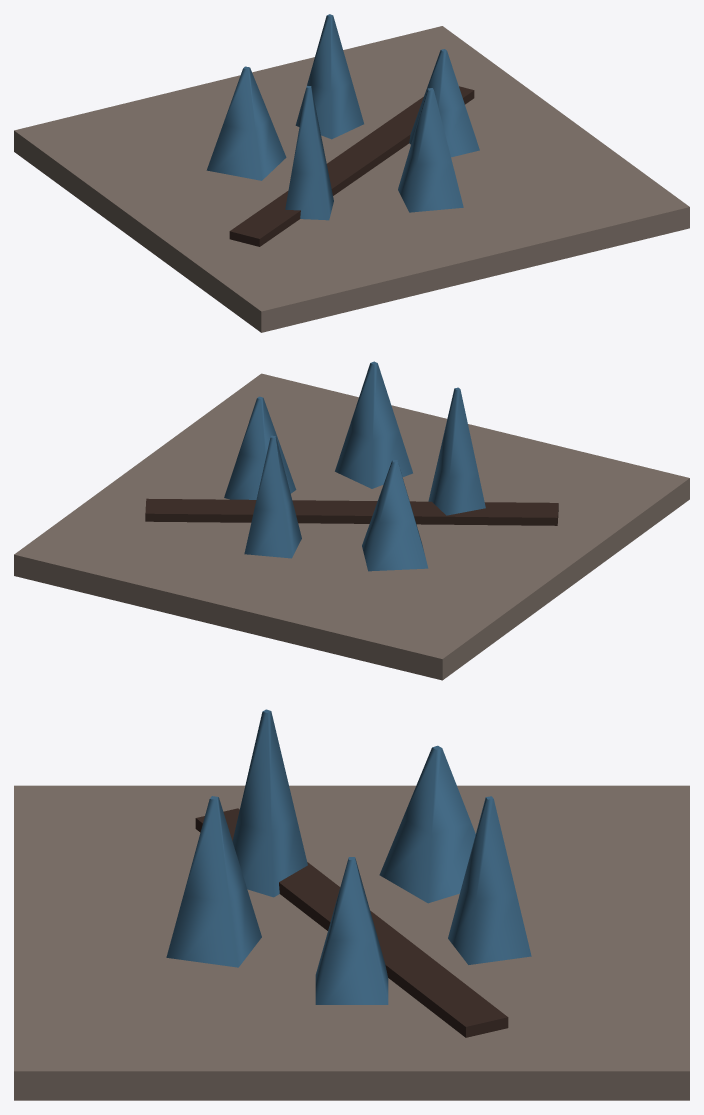
The model's file is node_ling_mai.glb.
3 renders of one model, top to bottom at view 1: azimuth 30°, elevation 25°; view 2: azimuth 150°, elevation 25°; view 3: azimuth 270°, elevation 25°, orthographic. The views are drawn at different scales.
Parts seen in each view (by area): view 1: _MeshInstance3D_304, _MeshInstance3D_310, _MeshInstance3D_308, _MeshInstance3D_306, _MeshInstance3D_309, _MeshInstance3D_307, _MeshInstance3D_305; view 2: _MeshInstance3D_304, _MeshInstance3D_310, _MeshInstance3D_306, _MeshInstance3D_308, _MeshInstance3D_307, _MeshInstance3D_309, _MeshInstance3D_305; view 3: _MeshInstance3D_304, _MeshInstance3D_306, _MeshInstance3D_308, _MeshInstance3D_310, _MeshInstance3D_307, _MeshInstance3D_309, _MeshInstance3D_305.
Part boxes in pixels (left/top/right/bottom): _MeshInstance3D_304: left=14, top=26, right=689, bottom=332; _MeshInstance3D_310: left=229, top=86, right=474, bottom=246; _MeshInstance3D_308: left=206, top=66, right=286, bottom=180; _MeshInstance3D_306: left=398, top=88, right=463, bottom=212; _MeshInstance3D_309: left=295, top=14, right=363, bottom=139; _MeshInstance3D_307: left=285, top=85, right=333, bottom=220; _MeshInstance3D_305: left=409, top=49, right=479, bottom=157; _MeshInstance3D_304: left=14, top=373, right=689, bottom=680; _MeshInstance3D_310: left=145, top=498, right=558, bottom=525; _MeshInstance3D_306: left=335, top=361, right=412, bottom=488; _MeshInstance3D_308: left=362, top=460, right=428, bottom=571; _MeshInstance3D_307: left=428, top=387, right=485, bottom=515; _MeshInstance3D_309: left=244, top=435, right=301, bottom=558; _MeshInstance3D_305: left=224, top=396, right=296, bottom=499; _MeshInstance3D_304: left=14, top=785, right=689, bottom=1100; _MeshInstance3D_306: left=166, top=796, right=261, bottom=967; _MeshInstance3D_308: left=379, top=745, right=475, bottom=903; _MeshInstance3D_310: left=195, top=808, right=508, bottom=1037; _MeshInstance3D_307: left=232, top=709, right=307, bottom=897; _MeshInstance3D_309: left=448, top=796, right=531, bottom=964; _MeshInstance3D_305: left=315, top=857, right=388, bottom=1004.
Size of the model in its own units: 0.84 by 0.3 by 0.84.
